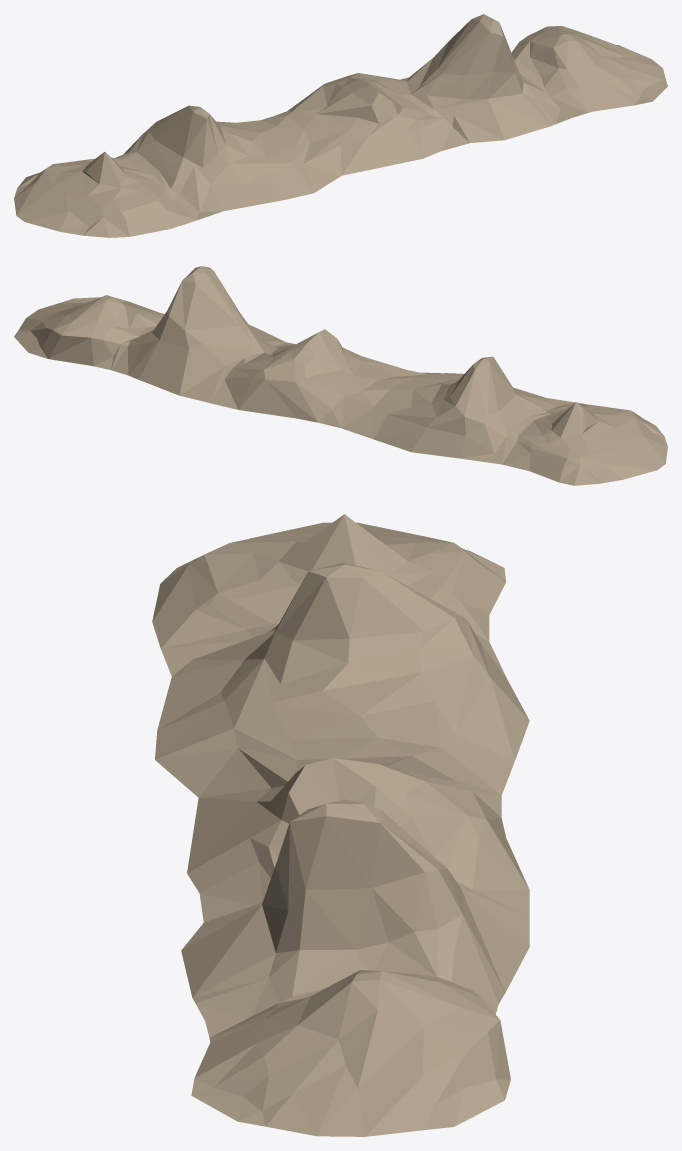
Rendered from SM_Env_GroundMound_Rough_Edge_01.FBX.
3 renders of one model, top to bottom at view 1: azimuth 30°, elevation 25°; view 2: azimuth 150°, elevation 25°; view 3: azimuth 270°, elevation 25°, orthographic. The views are drawn at different scales.
Parts seen in each view (by area): view 1: SM_Env_GroundMound_Rough_Edge_01; view 2: SM_Env_GroundMound_Rough_Edge_01; view 3: SM_Env_GroundMound_Rough_Edge_01.
Part boxes in pixels (left/top/right/bottom): SM_Env_GroundMound_Rough_Edge_01: left=14, top=14, right=667, bottom=237; SM_Env_GroundMound_Rough_Edge_01: left=14, top=266, right=667, bottom=485; SM_Env_GroundMound_Rough_Edge_01: left=152, top=514, right=529, bottom=1136.
Size of what is drawn, in the model's own units: 832 by 216 by 108.
